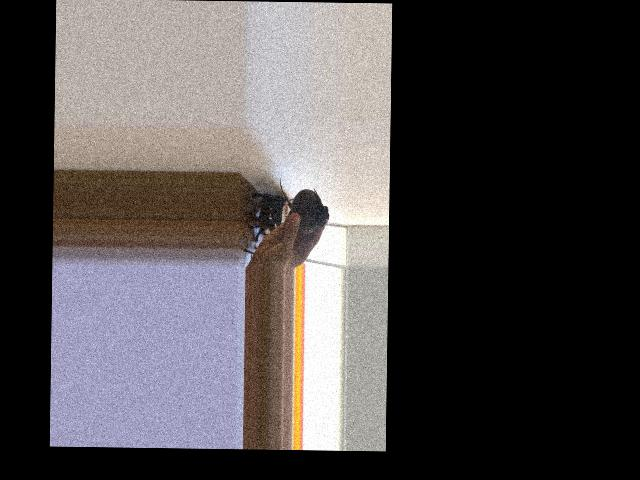beet: (278, 176, 329, 233)
